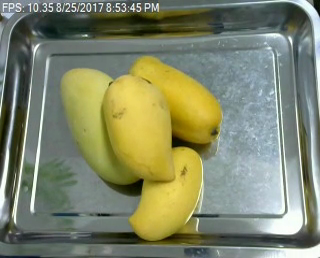Mango: (60, 67, 146, 185), (128, 55, 223, 144), (101, 74, 177, 183), (125, 146, 207, 242)
